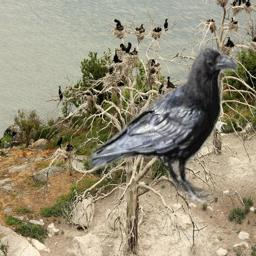Crow: (88, 45, 238, 203)
